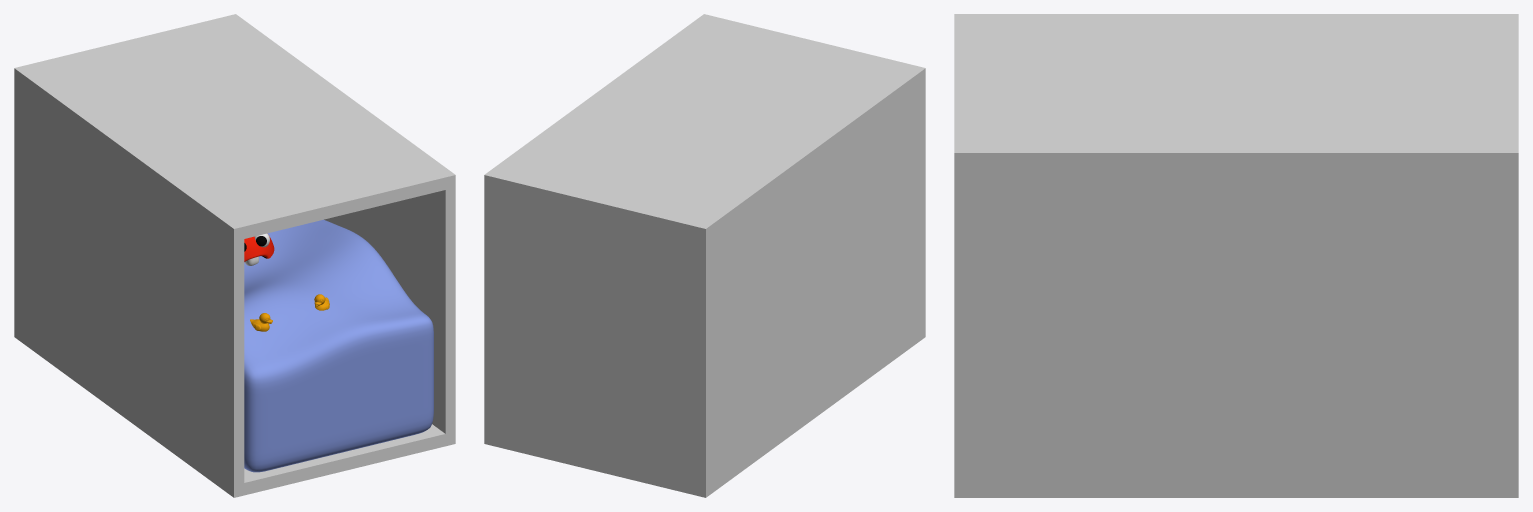
The model's file is pecera.fbx.
The picture shows the model from 3 angles, left to right: view 1: azimuth 30°, elevation 25°; view 2: azimuth 150°, elevation 25°; view 3: azimuth 270°, elevation 25°; orthographic projection. The views are drawn at different scales.
Parts seen in each view (by area): view 1: Plane, Cube, Cube.001; view 2: Plane; view 3: Plane.
Part boxes in pixels (x1=…): Plane: x1=14, y1=14, x2=455, y2=497; Cube: x1=244, y1=219, x2=433, y2=472; Cube.001: x1=244, y1=233, x2=274, y2=265; Plane: x1=484, y1=14, x2=925, y2=497; Plane: x1=954, y1=14, x2=1518, y2=497.
Bounding box in the file's own units: 475 × 551 × 817.
